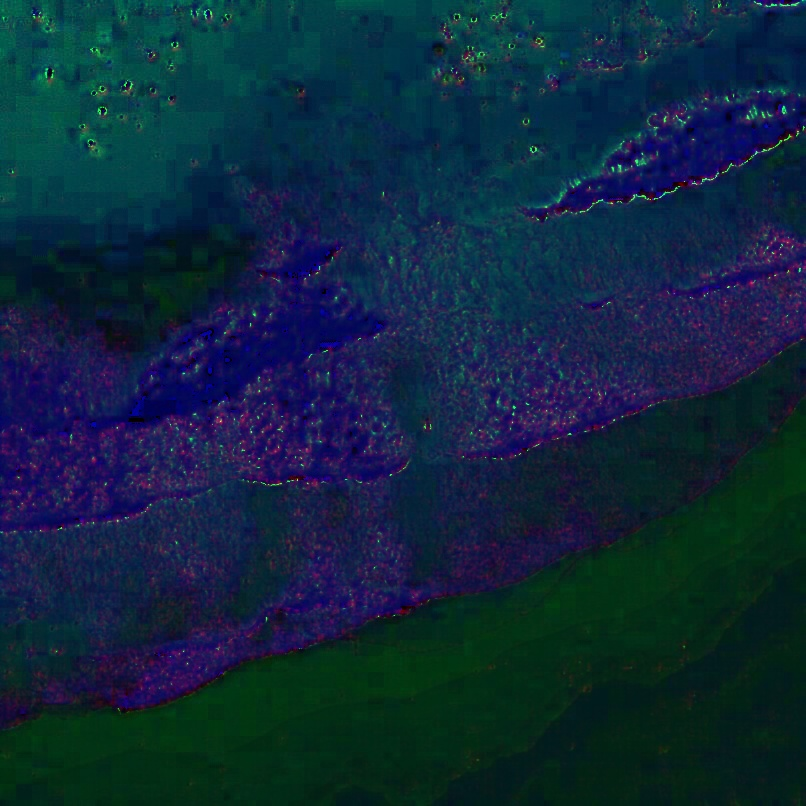rip_current: (225, 85, 553, 509)
